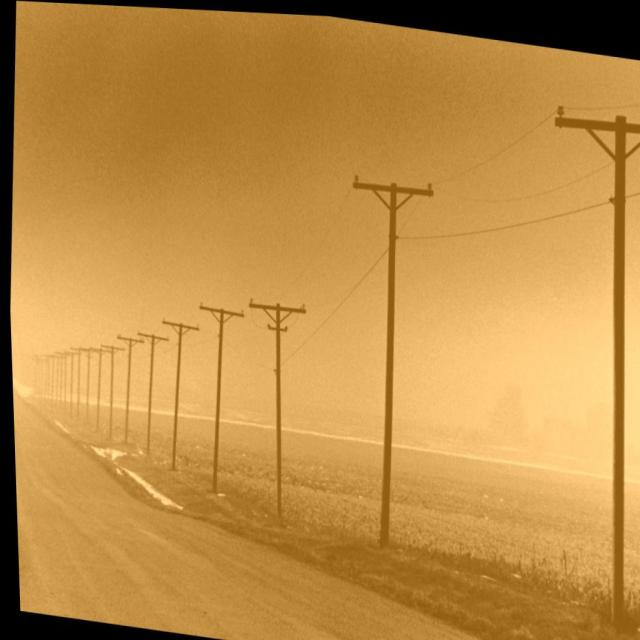pole: (598, 300, 640, 640), (377, 341, 401, 557)
